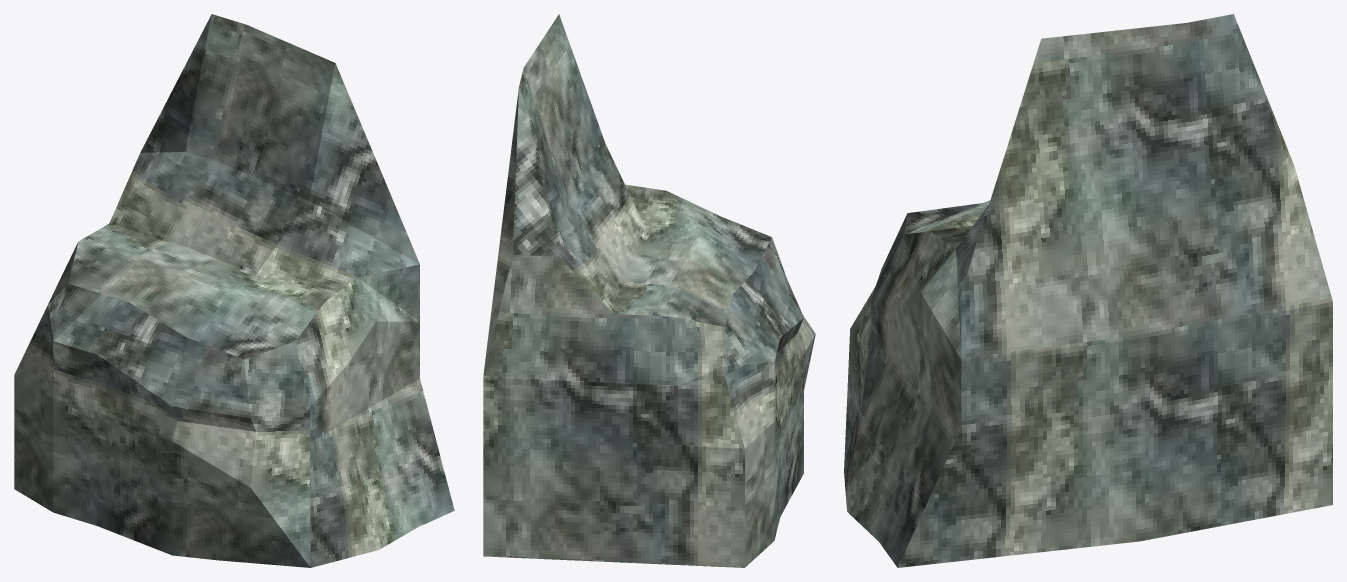
File: sm_rock_4.gltf
The picture shows the model from 3 angles, left to right: view 1: azimuth 30°, elevation 25°; view 2: azimuth 150°, elevation 25°; view 3: azimuth 270°, elevation 25°; orthographic projection. The views are drawn at different scales.
Parts seen in each view (by area): view 1: Cube; view 2: Cube; view 3: Cube.
Boxes of the visible parts, x1,y1,x2,y2 form: Cube: [14, 14, 454, 567]; Cube: [483, 14, 815, 567]; Cube: [844, 14, 1332, 567].
Bounding box in the file's own units: 2.84 × 3.68 × 3.29.
1 material, 1 textured.
